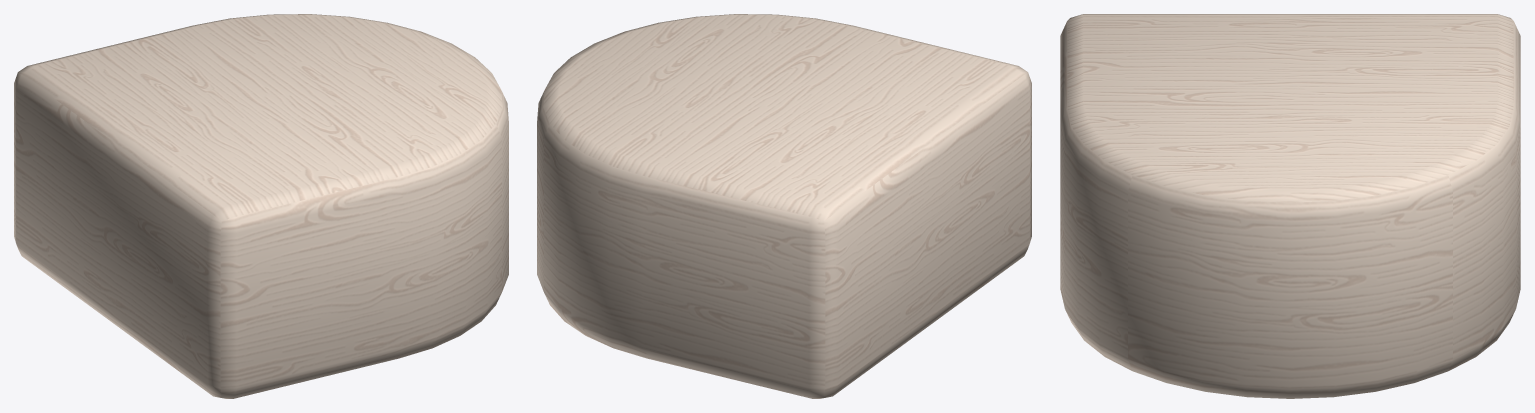
Rendered from End_Curve_Block.fbx.
The picture shows the model from 3 angles, left to right: view 1: azimuth 30°, elevation 25°; view 2: azimuth 150°, elevation 25°; view 3: azimuth 270°, elevation 25°; orthographic projection. The views are drawn at different scales.
Visible parts, largest first — view 1: Cube; view 2: Cube; view 3: Cube.
Part boxes in pixels (x1,y1,x2,y2): Cube: [14, 14, 508, 398]; Cube: [537, 14, 1031, 398]; Cube: [1060, 14, 1520, 398].
Size of the model in its own units: 200 by 100 by 200.
